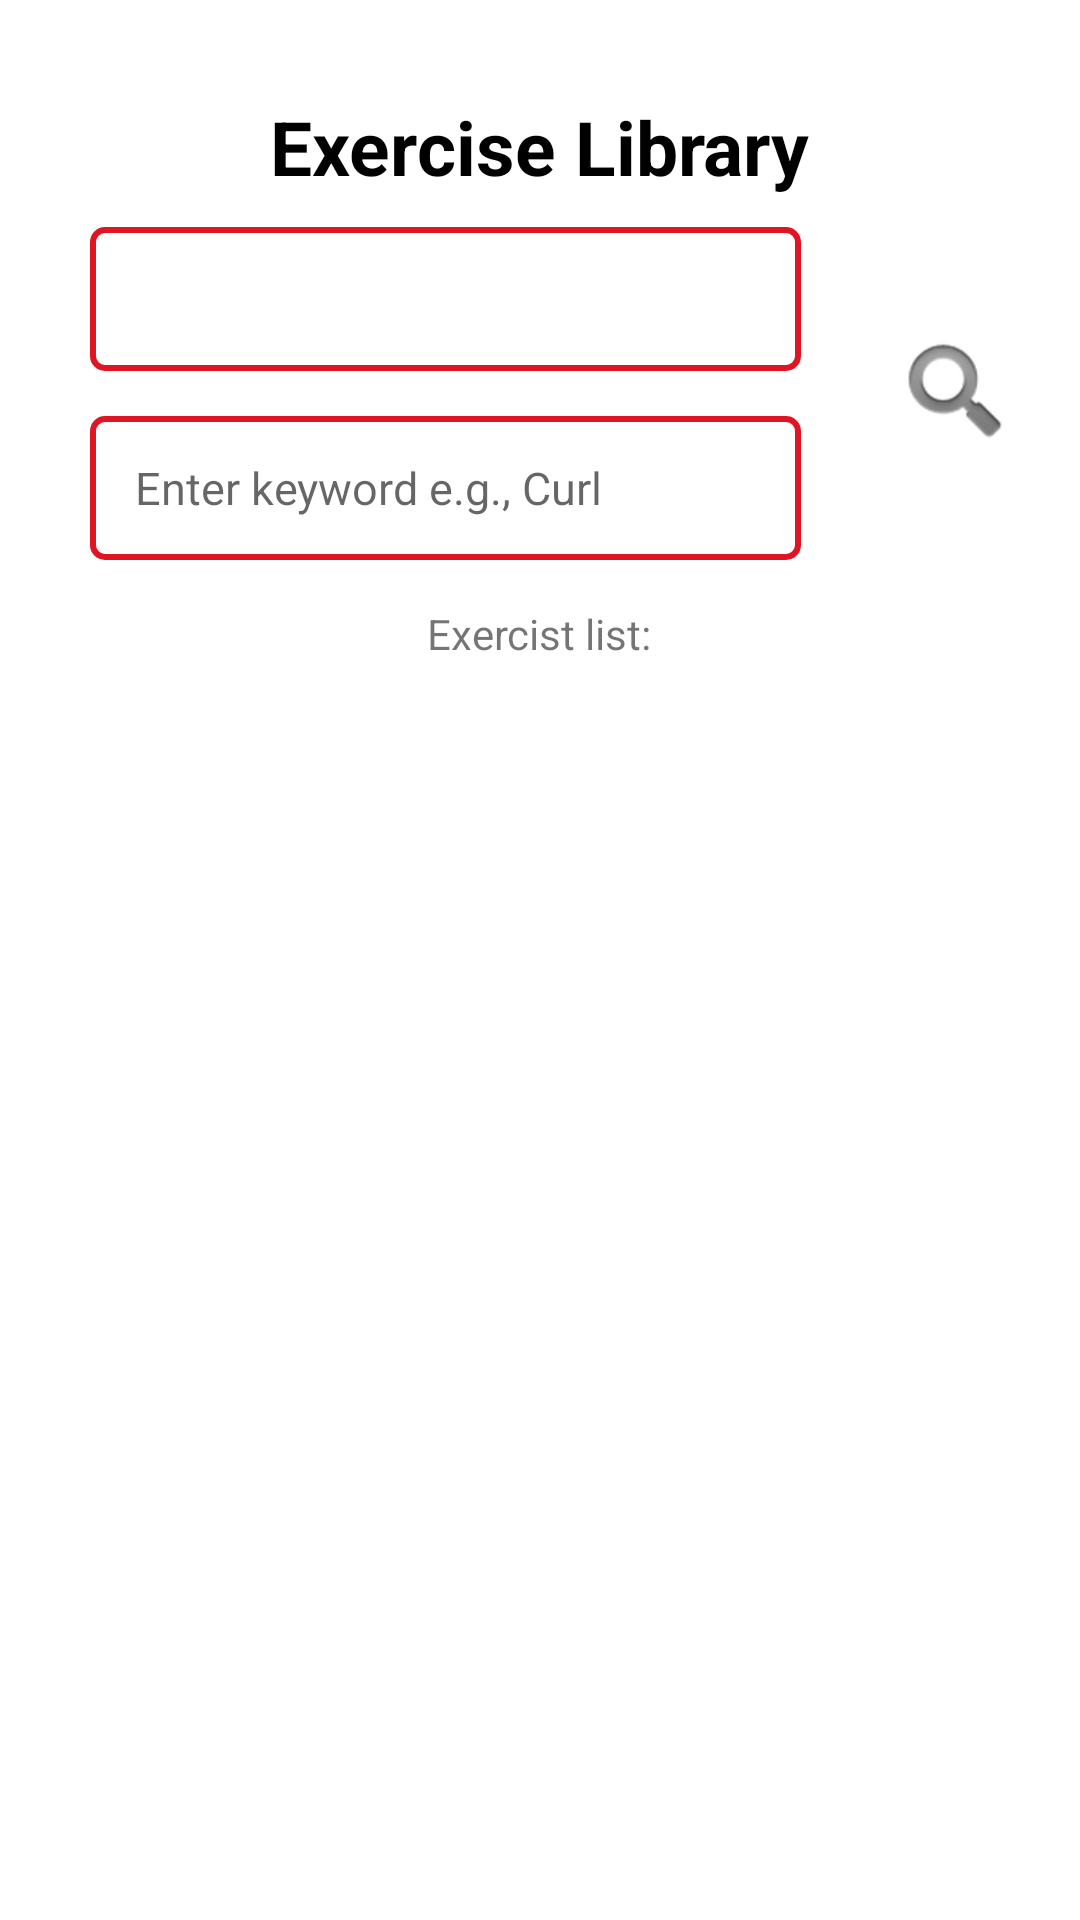

Where to tap for icons on this 1080×1920 app screen, as [x,y]:
search category: [954,390]
